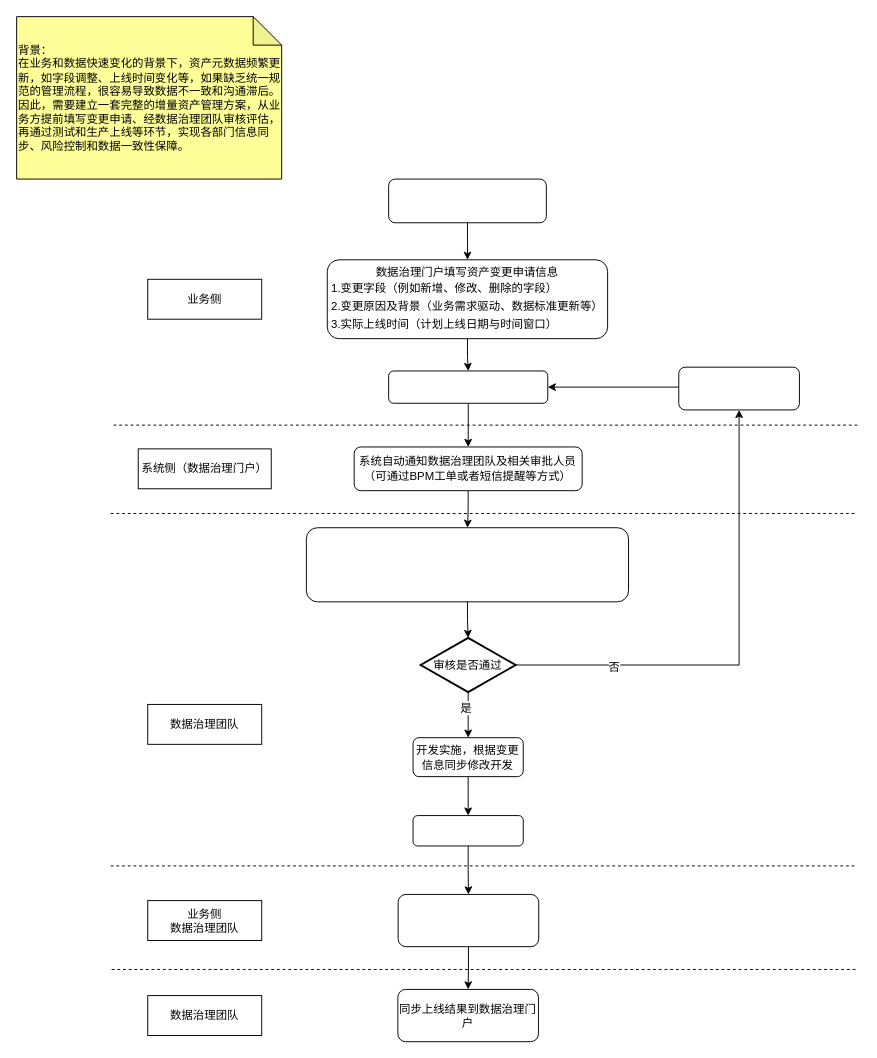
The diagram is 877 pixels wide and 1058 high, and some of its shapes have lost their labels. The shapes that lost their labels are listed below. From the top down, each one's centre as x and y in pixels, then its label:
(467,200): 资产元数据发现需要变更 （包括 业务系统升级/业务规则变更/数据源结构调整 ）
(468,386): 提交变更申请至数据治理门户
(738,388): 反馈给业务方 要求补充或修改申请单
(467,564): 初步审核，评估影响范围，检查信息合理性和完整性 1.字段变更是否符合命名规范 2.是否存在下游系统依赖（通过数据血缘图谱核查） 3.与现有元数据字典的兼容性
(467,830): 数据验收，确认更改一致性
(468,920): 同步上线，大数据平台和业务系统同步进行上线更改
